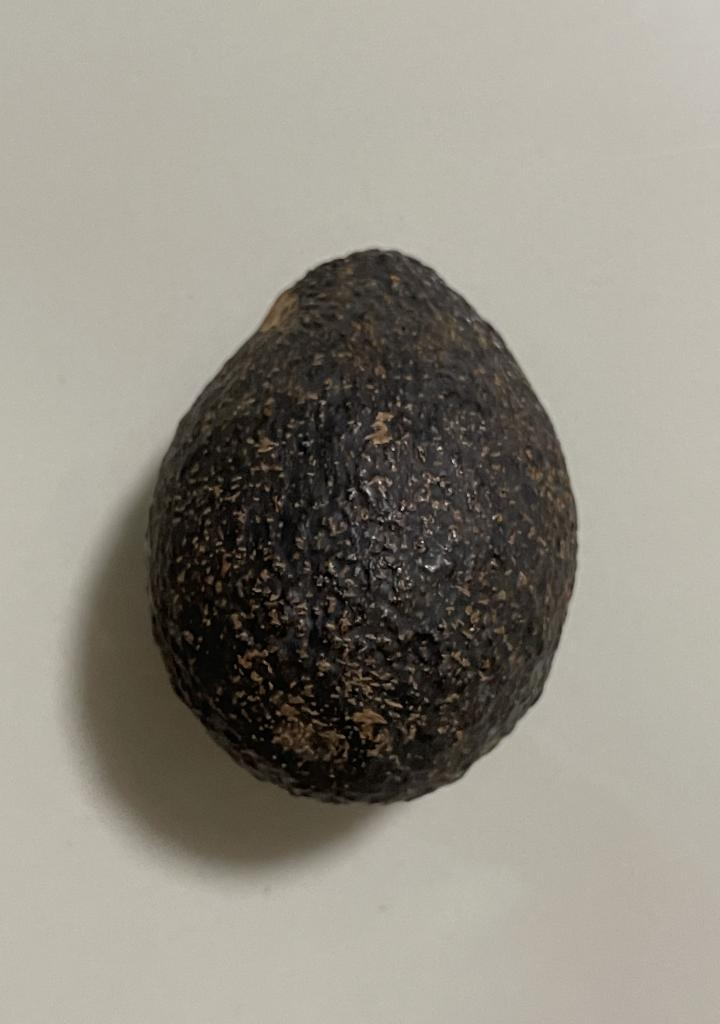Level2: (133, 241, 588, 817)
